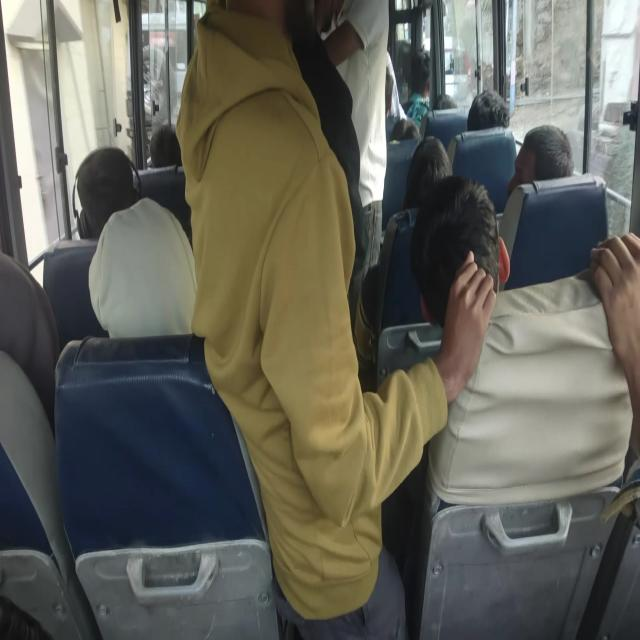person: (193, 0, 385, 512), (272, 0, 374, 247), (595, 220, 640, 604), (402, 201, 503, 319), (127, 202, 199, 341), (344, 0, 384, 176), (0, 263, 49, 399), (511, 134, 574, 190), (400, 139, 460, 194), (82, 150, 112, 223), (146, 114, 176, 173), (392, 121, 420, 169), (407, 51, 437, 95), (472, 92, 504, 131), (433, 97, 466, 115)
